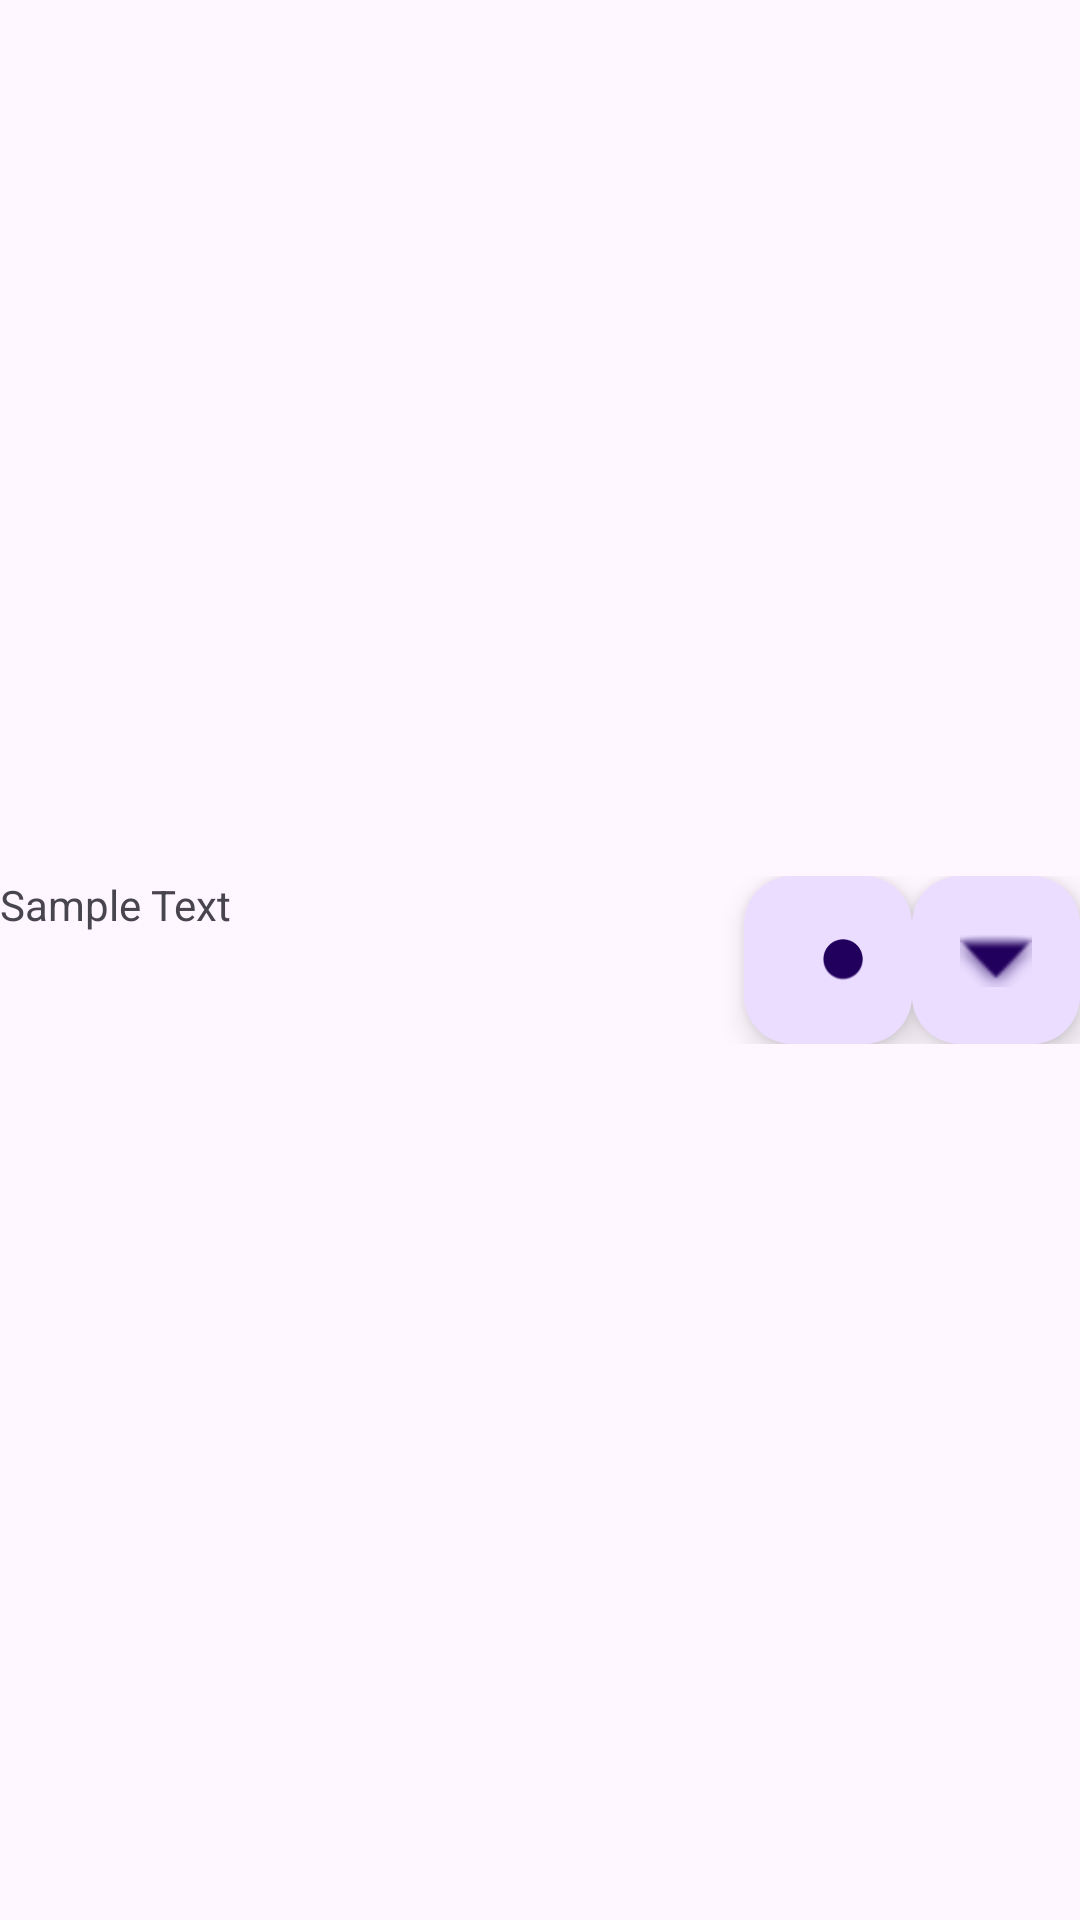

Point at icon controls on the screen. Image size 1080px x 1920px, points as (x,y).
arrow down float: (996,960)
